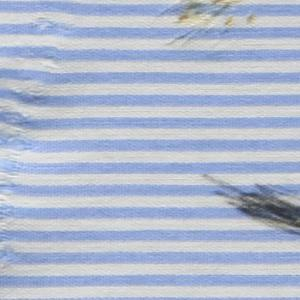Damage: (1, 3, 81, 295)
Oil Stain: (156, 1, 260, 53)
Stain: (198, 171, 300, 242)
